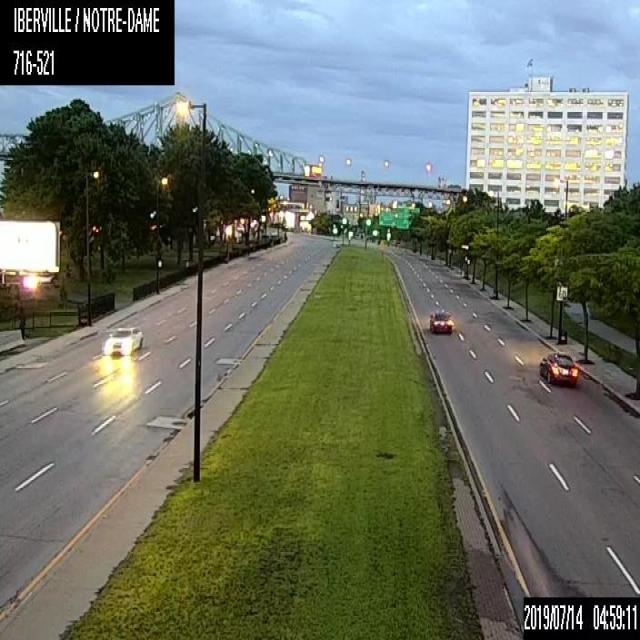vehicle: (537, 351, 578, 384), (101, 324, 143, 353), (427, 310, 453, 334)
